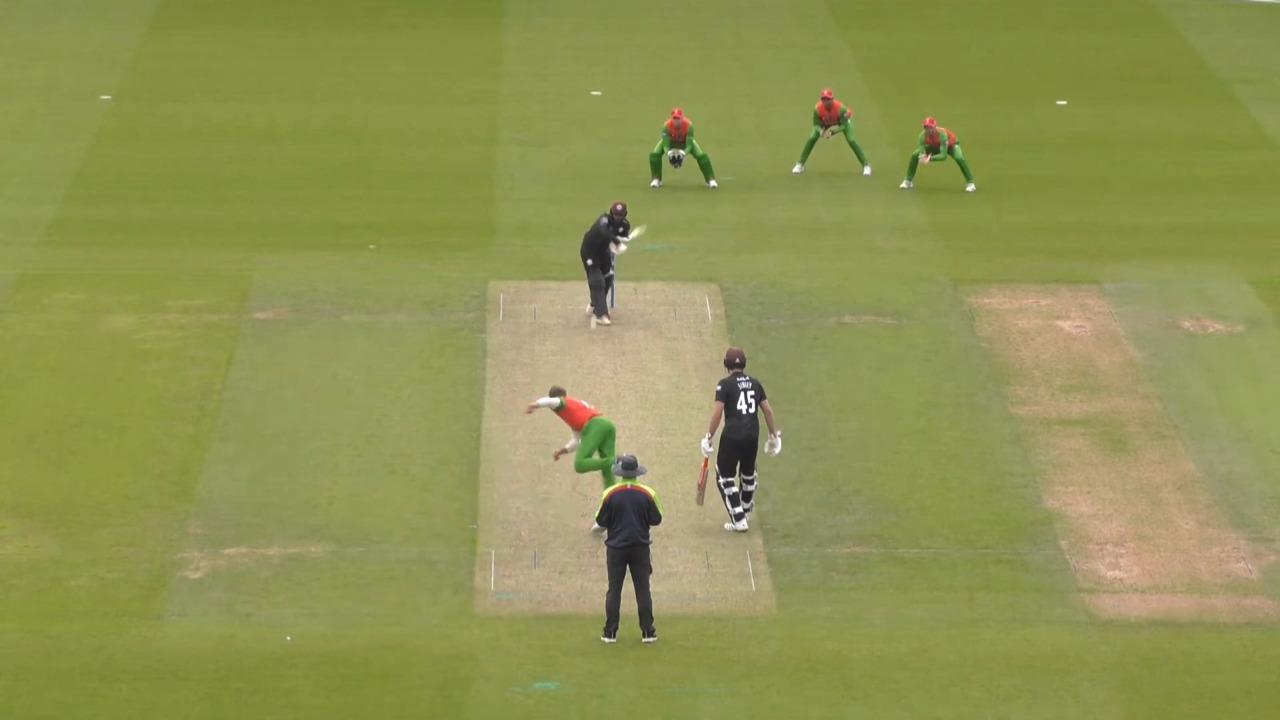sports ball: (590, 314, 596, 328)
